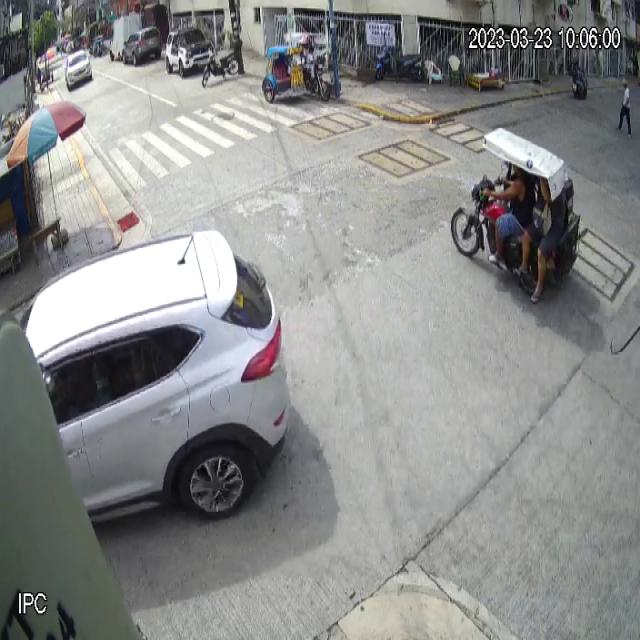Car: (20, 230, 290, 524), (166, 26, 214, 81), (64, 50, 92, 91)
Tricycle: (450, 127, 582, 300), (261, 33, 331, 104)
